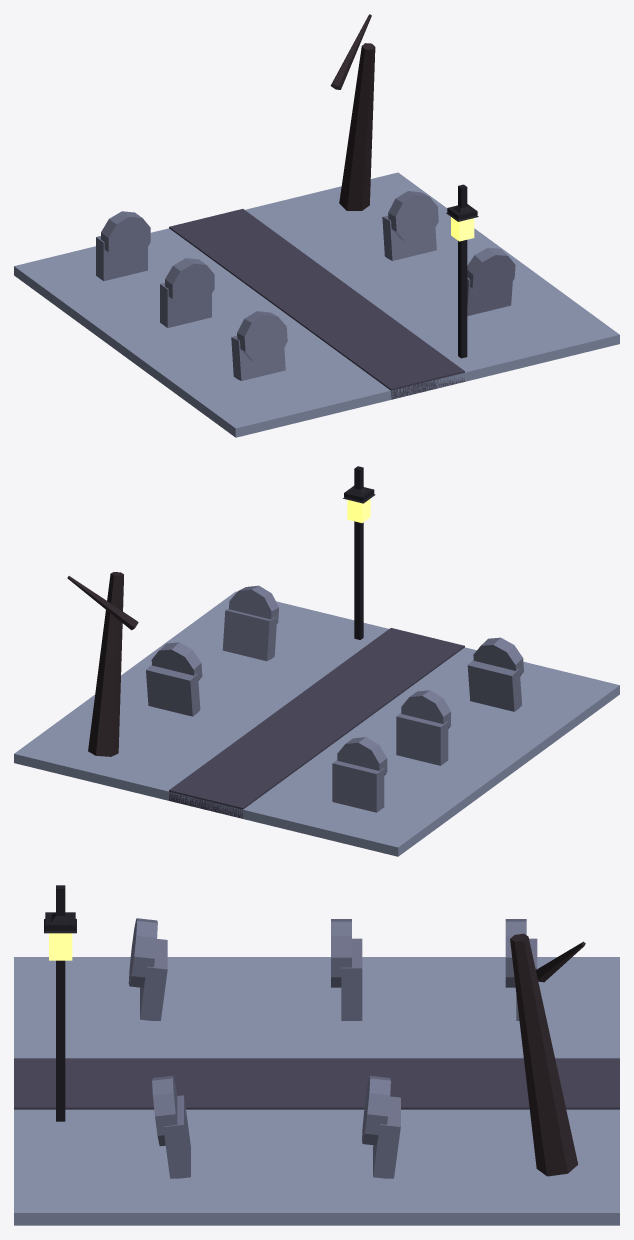
The model's file is subnet-graveyard.glb.
3 views of the same model, one above another, from view 1: azimuth 30°, elevation 25°; view 2: azimuth 150°, elevation 25°; view 3: azimuth 270°, elevation 25° (orthographic). The views are drawn at different scales.
Visible parts, largest first — view 1: cw_paint; view 2: cw_paint; view 3: cw_paint, cw_glow.
Boxes of the visible parts, x1,y1,x2,y2 form: cw_paint: [14, 14, 619, 437]; cw_paint: [14, 466, 619, 856]; cw_paint: [14, 885, 619, 1225]; cw_glow: [49, 933, 72, 960].
Bounding box in the file's own units: 5.2 × 2.43 × 5.2.
